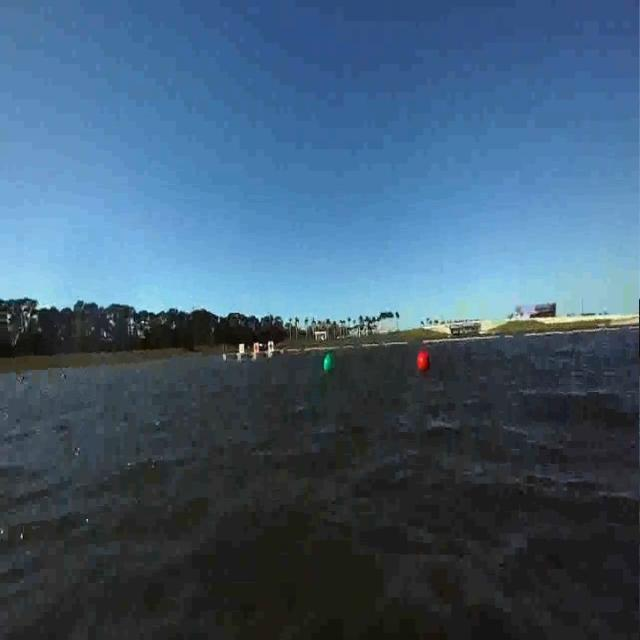green-buoy: (325, 353, 337, 370)
red-buoy: (418, 350, 431, 373)
